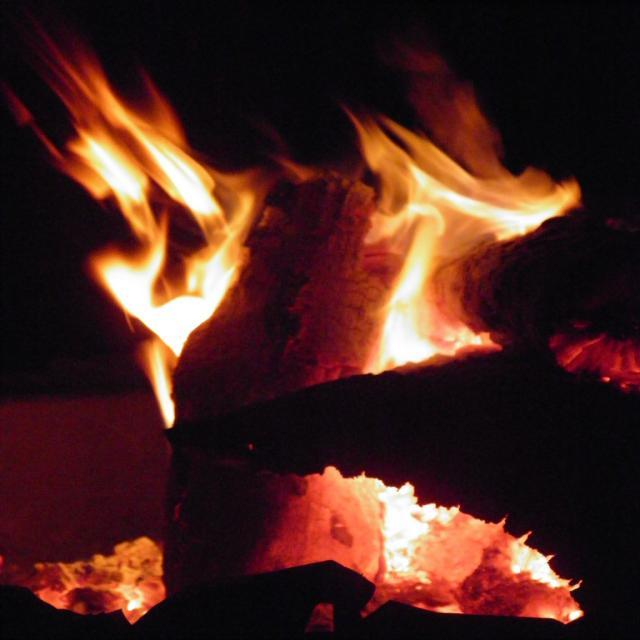Fire: (388, 149, 493, 353), (72, 122, 188, 210), (125, 254, 221, 332), (383, 495, 448, 578)
